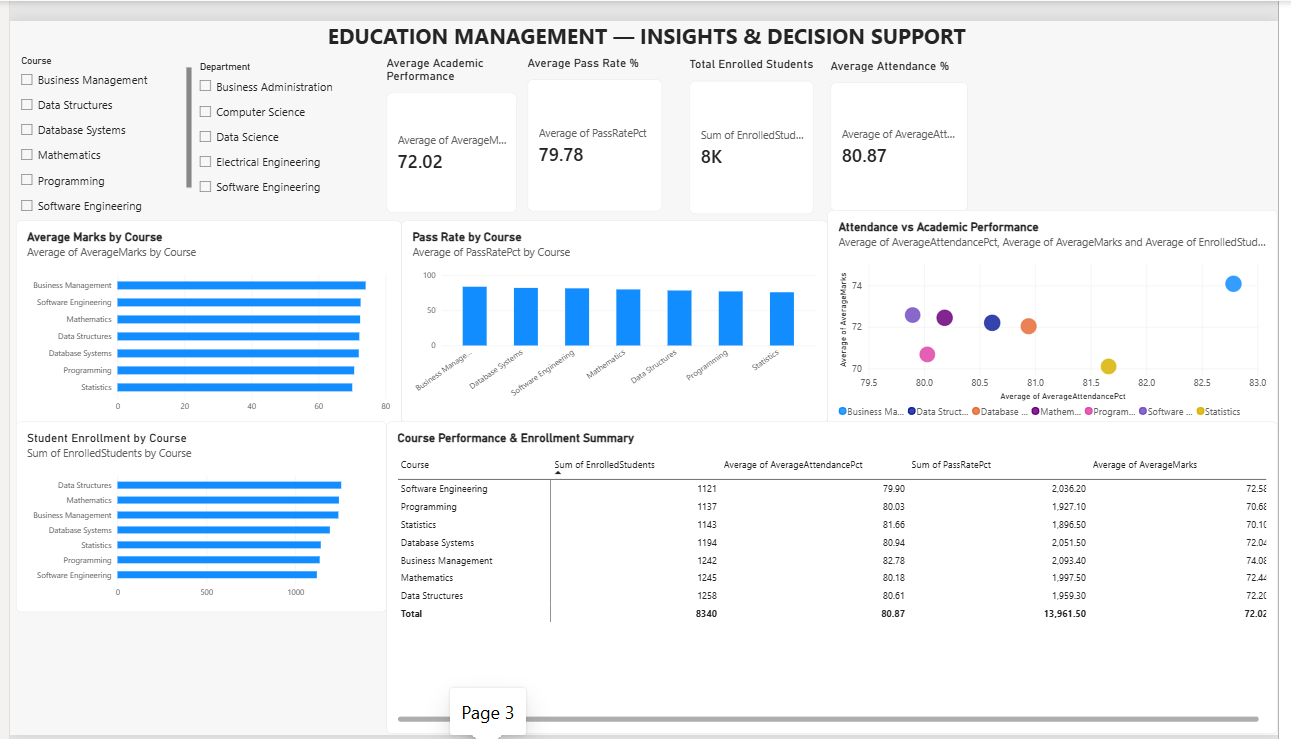

What the dashboard file says about the page in this screenshot:
{"tool":"powerbi","page":{"name":"Page 3","canvas":[1920,1080],"ordinal":2},"visuals":[{"type":"textbox","box":[9.1,0,1910.2,52.2],"z":0},{"type":"cardVisual","title":"Average Attendance %","fields":{"Data":["Avg(CoursePerformance.AverageAttendancePct)"]},"box":[1242.4,56.8,209,231.7],"z":2},{"type":"cardVisual","title":"Average Pass Rate %","fields":{"Data":["Avg(CoursePerformance.PassRatePct)"]},"box":[783.6,52.2,204.4,236.2],"z":3},{"type":"cardVisual","title":"Total Enrolled Students","fields":{"Data":["Sum(CoursePerformance.EnrolledStudents)"]},"box":[1028.9,54.5,188.5,238.5],"z":4},{"type":"cardVisual","title":"Average Academic Performance","fields":{"Data":["Avg(CoursePerformance.AverageMarks)"]},"box":[570.1,52.2,197.6,238.5],"z":5},{"type":"clusteredBarChart","title":"Average Marks by Course","fields":{"Category":["CoursePerformance.Course"],"Y":["Avg(CoursePerformance.AverageMarks)"]},"box":[9.1,302.1,583.7,311.2],"z":6},{"type":"clusteredColumnChart","title":"Pass Rate by Course","fields":{"Category":["CoursePerformance.Course"],"Y":["Avg(CoursePerformance.PassRatePct)"]},"box":[592.8,302.1,645.1,306.6],"z":7},{"type":"scatterChart","title":"Attendance vs Academic Performance","fields":{"X":["Avg(CoursePerformance.AverageAttendancePct)"],"Y":["Avg(CoursePerformance.AverageMarks)"],"Size":["Avg(CoursePerformance.EnrolledStudents)"],"Series":["CoursePerformance.Course"]},"box":[1238.6,286.2,681.4,336.2],"z":8},{"type":"barChart","title":"Student Enrollment by Course","fields":{"Category":["CoursePerformance.Course"],"Y":["Sum(CoursePerformance.EnrolledStudents)"]},"box":[9.1,606.4,561,288.5],"z":9},{"type":"pivotTable","title":"Course Performance & Enrollment Summary","fields":{"Rows":["CoursePerformance.Course"],"Values":["Sum(CoursePerformance.EnrolledStudents)","Avg(CoursePerformance.AverageAttendancePct)","Sum(CoursePerformance.PassRatePct)","Avg(CoursePerformance.AverageMarks)"]},"box":[570.1,606.4,1349.2,472.4],"z":10},{"type":"slicer","fields":{"Values":["CoursePerformance.Course"]},"box":[9.1,52.2,265.7,238.5],"z":11},{"type":"slicer","fields":{"Values":["CoursePerformance.Department"]},"box":[279.4,61.3,265.7,238.5],"z":12}]}

Visuals, with their boxes in screenshot pixels (x1, y1, x2, y2), scaled from the page's 1920x1080 canvas onto the 1291x739 screenshot:
textbox: <box>6,0,1290,36</box>
"Average Attendance %" cardVisual: <box>835,39,976,197</box>
"Average Pass Rate %" cardVisual: <box>527,36,664,197</box>
"Total Enrolled Students" cardVisual: <box>692,37,819,200</box>
"Average Academic Performance" cardVisual: <box>383,36,516,199</box>
"Average Marks by Course" clusteredBarChart: <box>6,207,399,420</box>
"Pass Rate by Course" clusteredColumnChart: <box>399,207,832,417</box>
"Attendance vs Academic Performance" scatterChart: <box>833,196,1290,426</box>
"Student Enrollment by Course" barChart: <box>6,415,383,612</box>
"Course Performance & Enrollment Summary" pivotTable: <box>383,415,1290,738</box>
slicer - CoursePerformance.Course: <box>6,36,185,199</box>
slicer - CoursePerformance.Department: <box>188,42,367,205</box>
